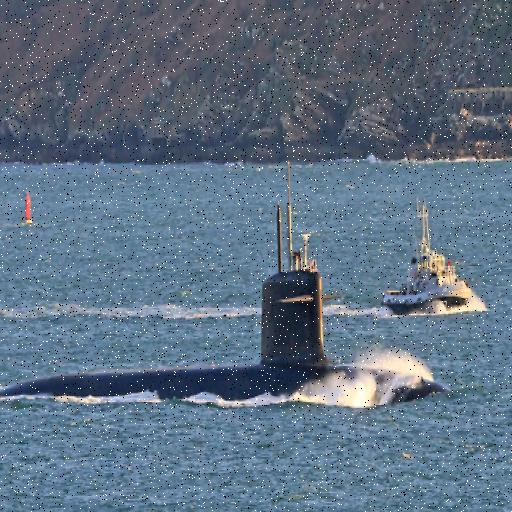submarine: (1, 273, 447, 415)
